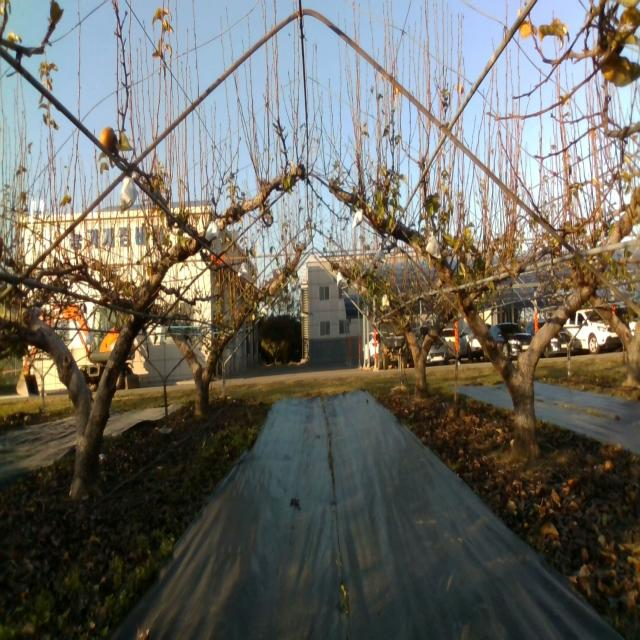pearbags: (119, 172, 139, 214), (426, 230, 442, 260), (205, 218, 220, 242)
